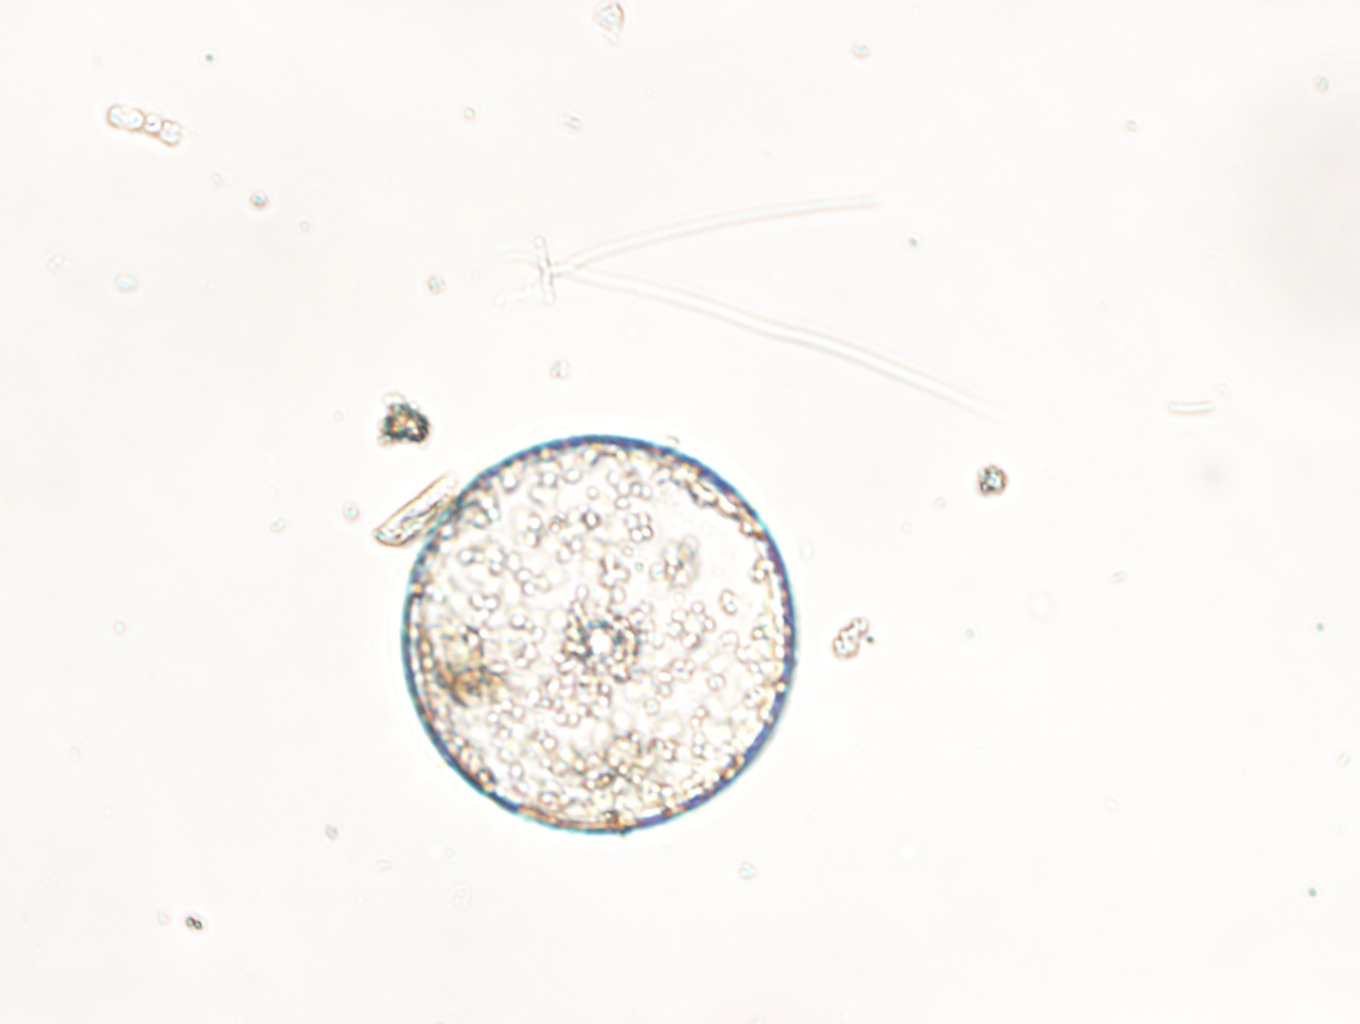coscinodiscus: (401, 435, 798, 834)
